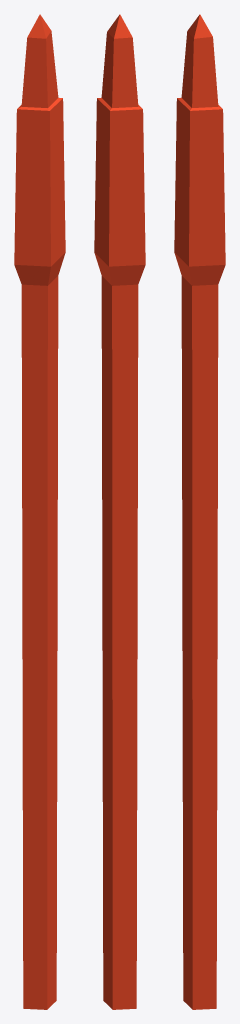
Rendered from SM_Brush_A_City.fbx.
3 views of the same model, side by side, from view 1: azimuth 30°, elevation 25°; view 2: azimuth 150°, elevation 25°; view 3: azimuth 330°, elevation 25° (orthographic).
Parts seen in each view (by area): view 1: SM_Brush_A_City; view 2: SM_Brush_A_City; view 3: SM_Brush_A_City.
Boxes of the visible parts, <box> form: SM_Brush_A_City: <box>14,14,65,1009</box>; SM_Brush_A_City: <box>94,14,145,1009</box>; SM_Brush_A_City: <box>174,14,225,1009</box>.
Size of the model in its own units: 0.0169 by 0.3121 by 0.0126.
